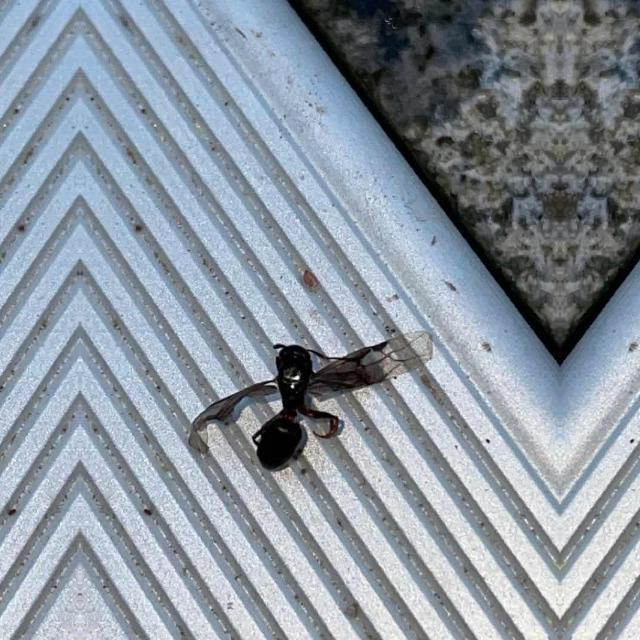Lasius: (182, 312, 440, 474)
